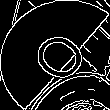O_SE: (18, 22, 92, 88)
